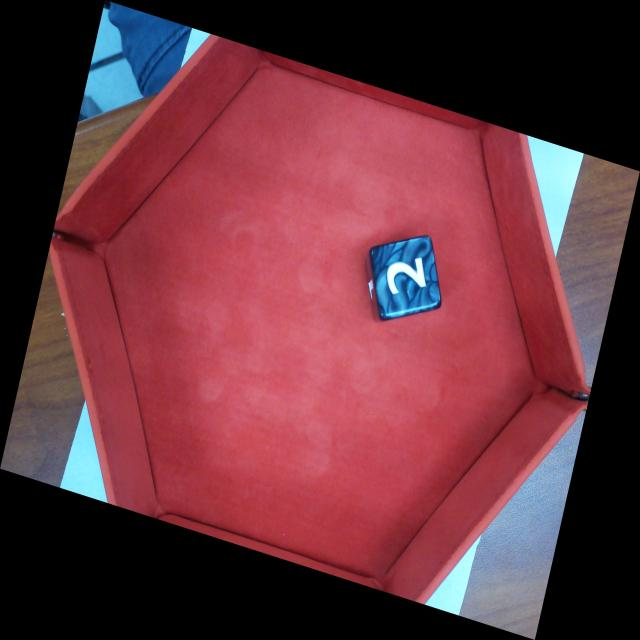dice: (370, 236, 441, 320)
